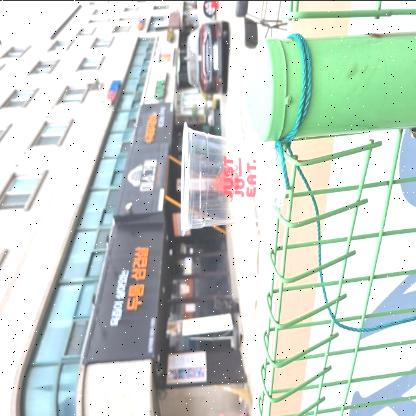Others: (176, 116, 288, 240)
